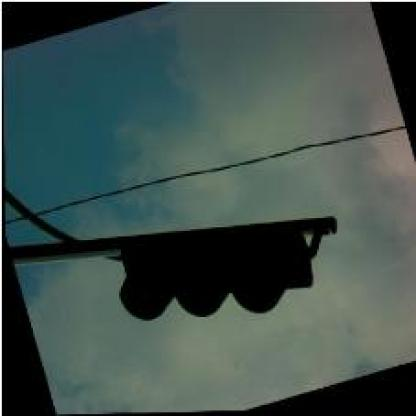green: (104, 194, 320, 348)
